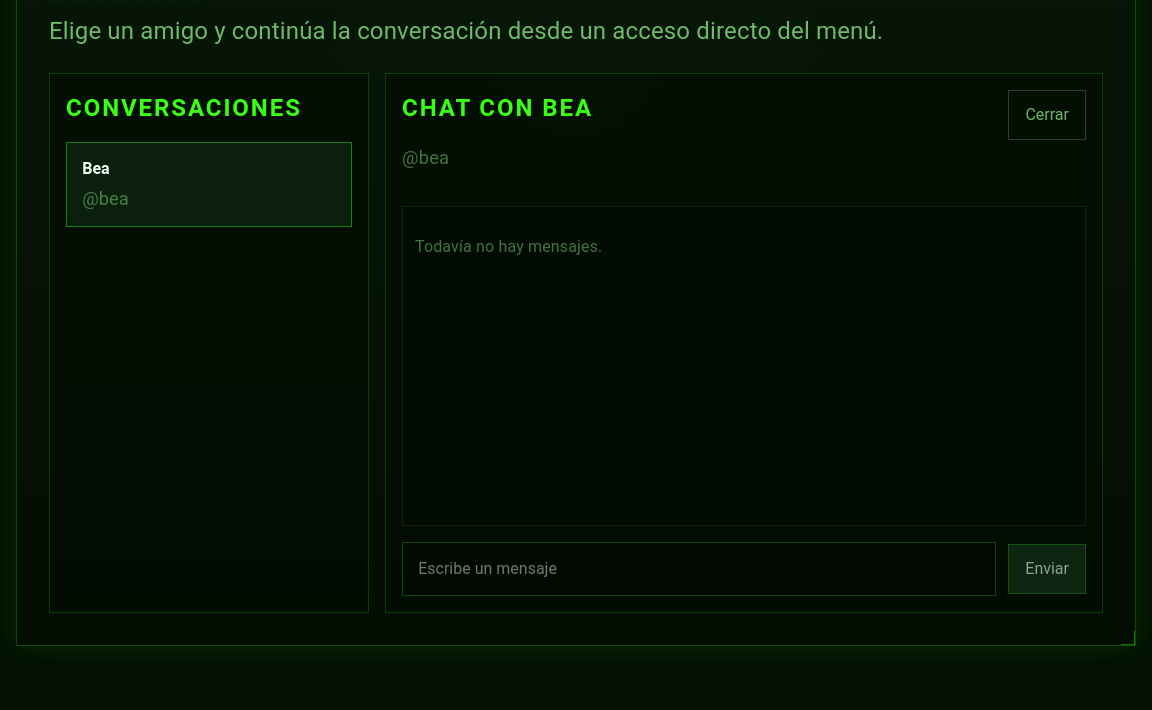
it: MessagesPage › does not duplicate messages received both from send response and WebSocket echo
(page scrolled)
Expected: the heading "Chat con Bea" is shown, [402,90,593,126]
Type "sin duplicar" into the field with placeholder "Escribe un mensaje" at {"x": 699, "y": 569}, box [402,542,996,596]
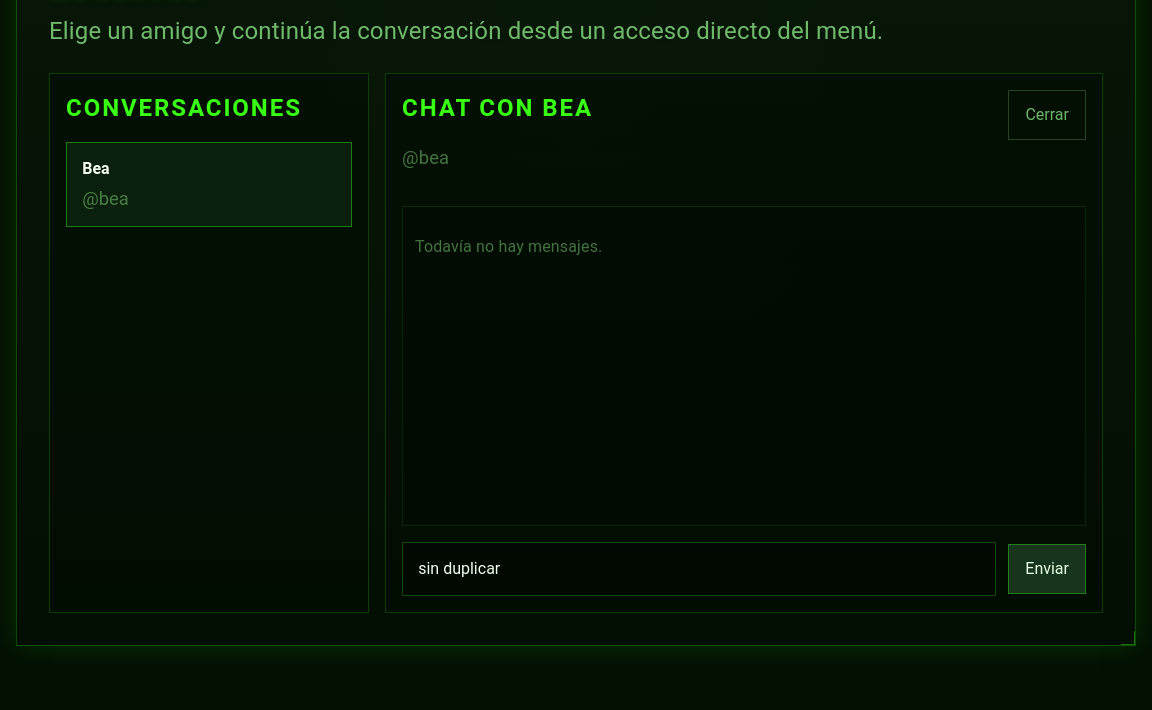
Click the button "Enviar" at {"x": 1047, "y": 569}, box [1008,544,1086,594]
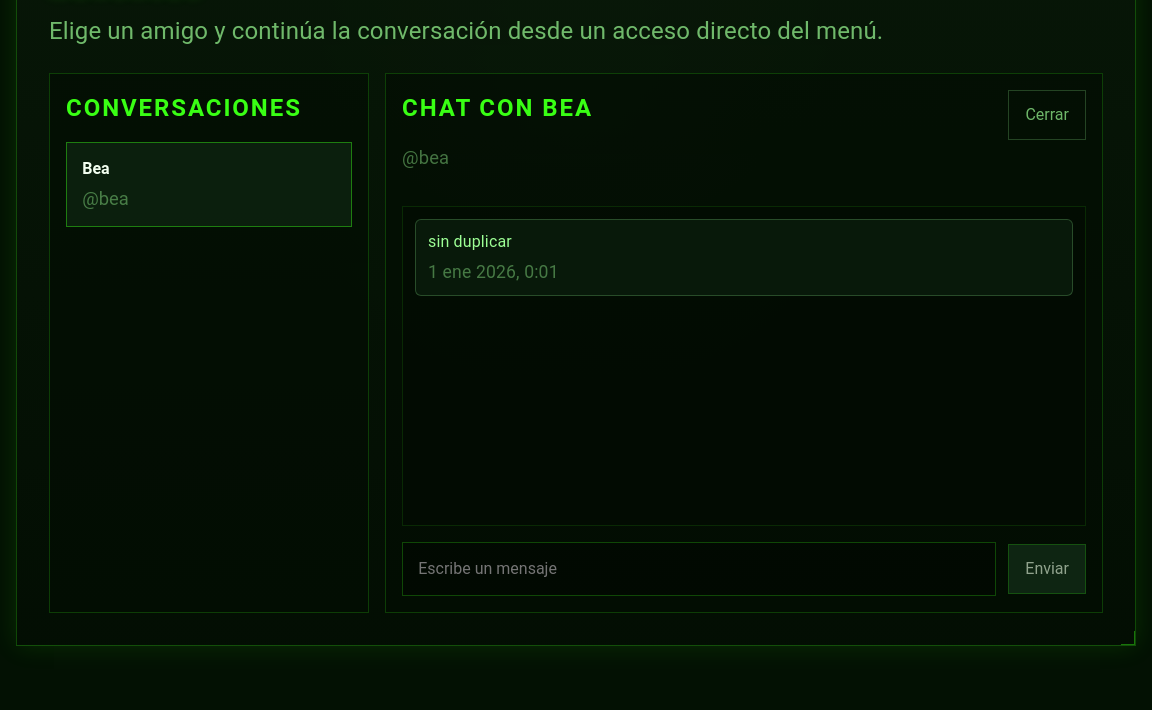
Result: the text "sin duplicar" is shown once at [428,232,512,251]
